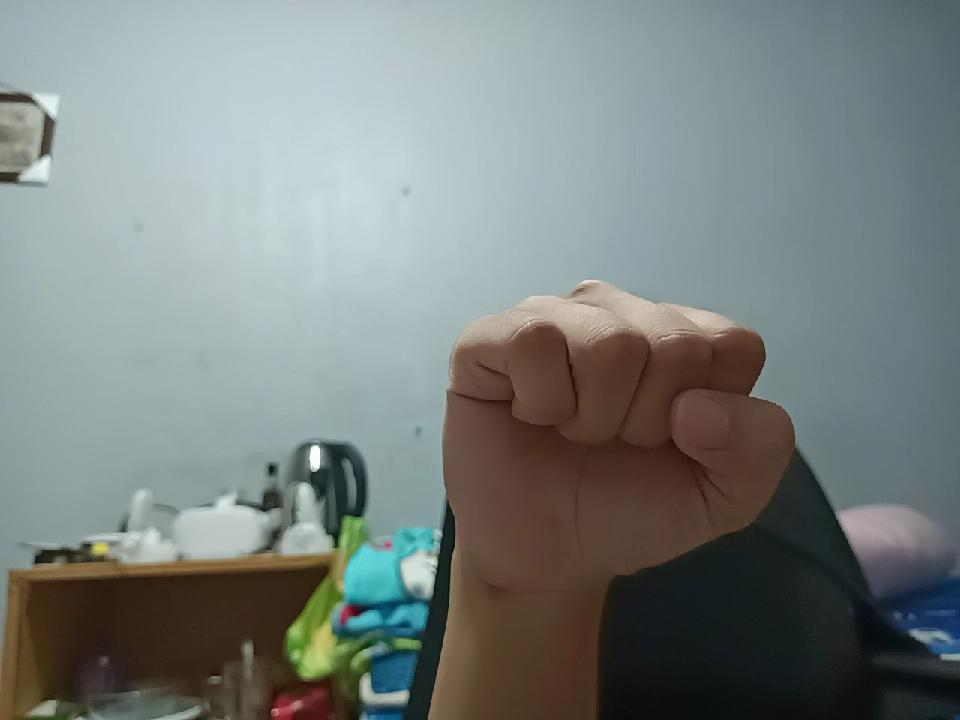rock: (460, 252, 772, 616)
